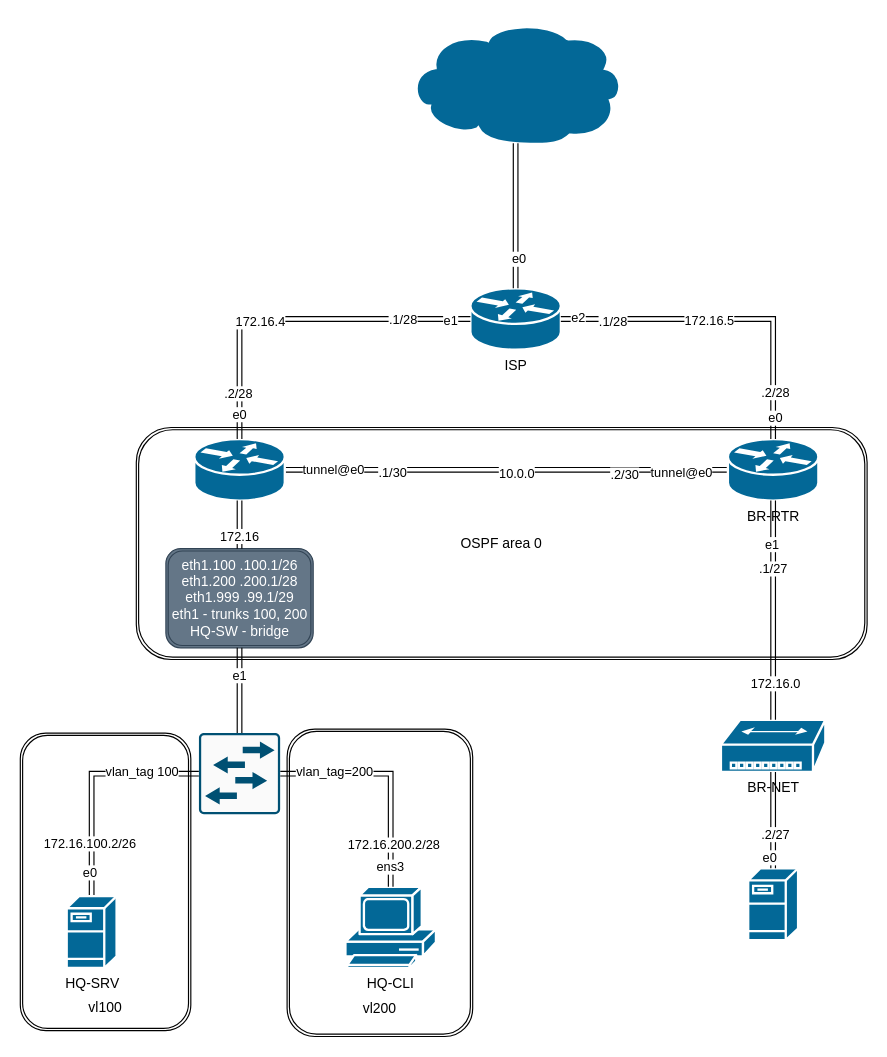
The diagram is 887 pixels wide and 1057 high, and some of its shapes have lost their labels. Here are the shapes that lost their labels. From the top down, the centre of each, then its label:
At (x=515, y=82): "Internet".
At (x=239, y=469): "HQ-RTR".
At (x=239, y=773): "proxmox-br".
At (x=772, y=904): "BR-SRV".
